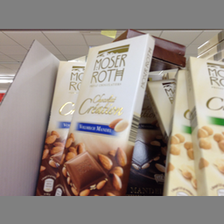chocolate: (55, 36, 150, 197), (183, 57, 224, 196)
